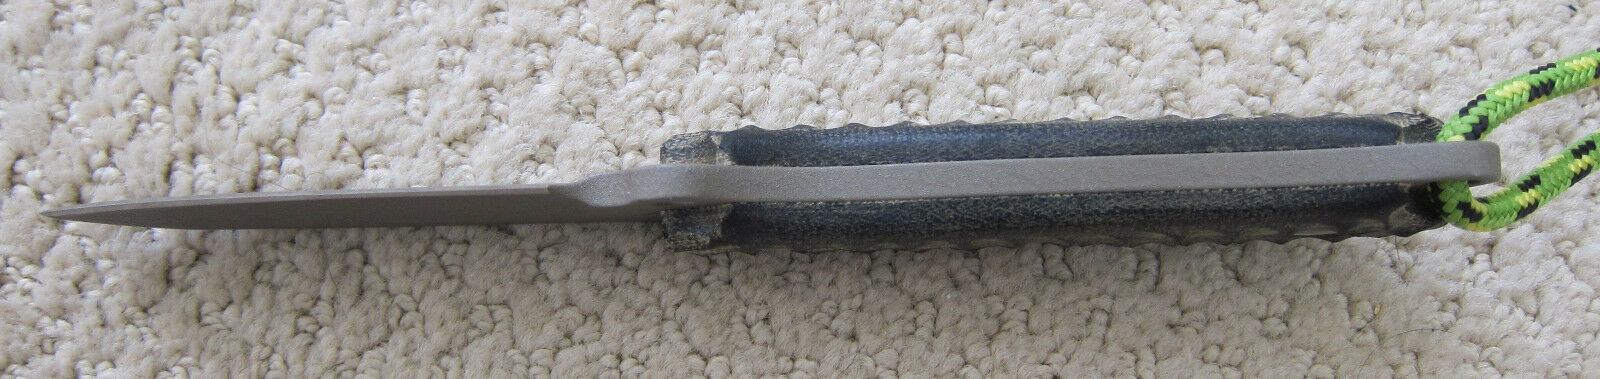knief: (31, 134, 1508, 241)
